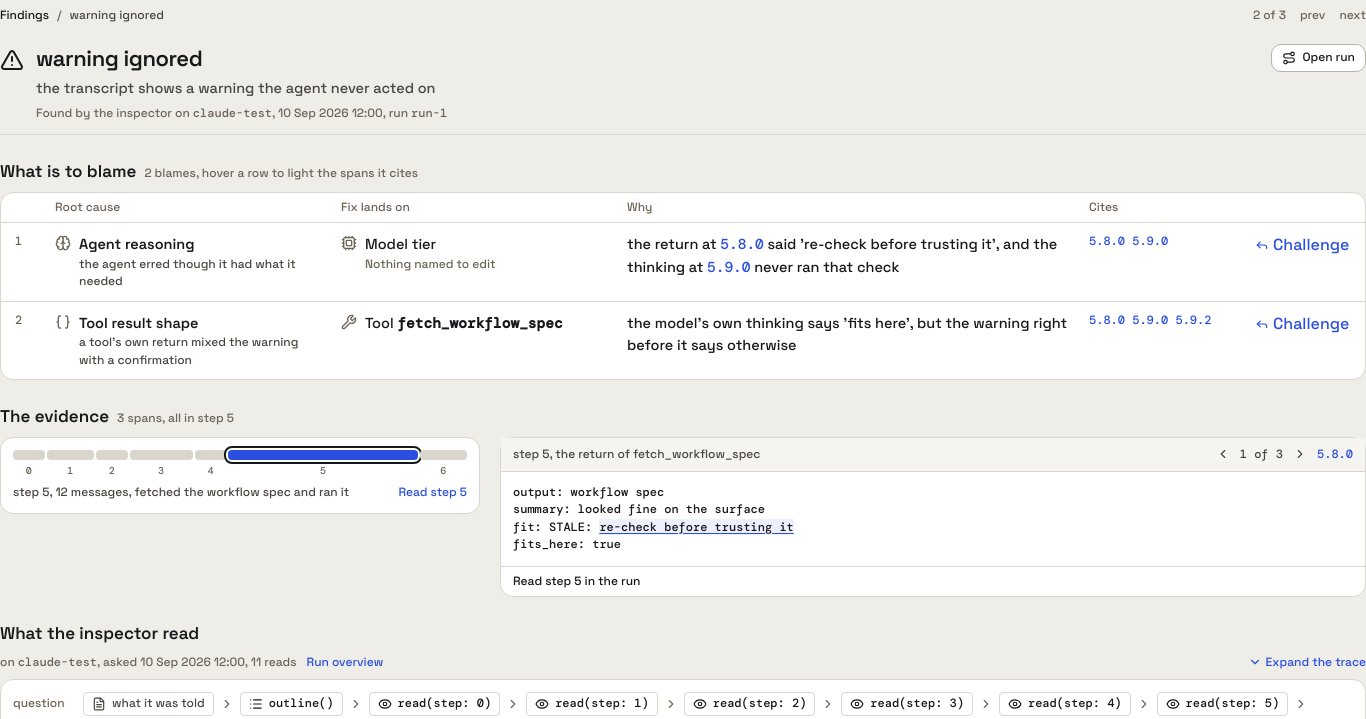
FindingPage › picks a span from a why's coordinate and from the next button
Check: the heading "warning ignored" is shown, box x1=36 y1=44 x2=202 y2=72
Click the button "5.9.0" next to "never ran that check" at (729, 267), box x1=707 y1=256 x2=750 y2=278
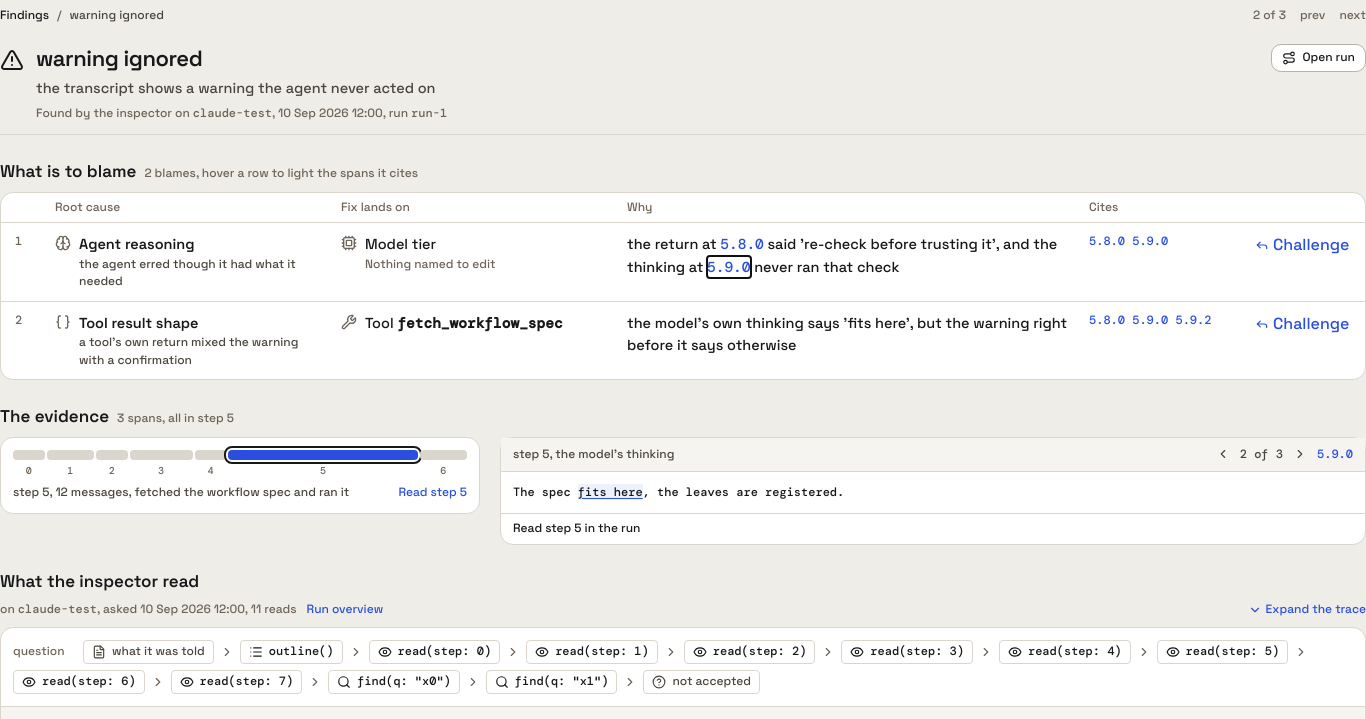
Check: the text "step 5, the model's thinking" is shown, box x1=513 y1=446 x2=674 y2=463
Click the button named "Next span" at (1300, 454), box x1=1293 y1=447 x2=1307 y2=461
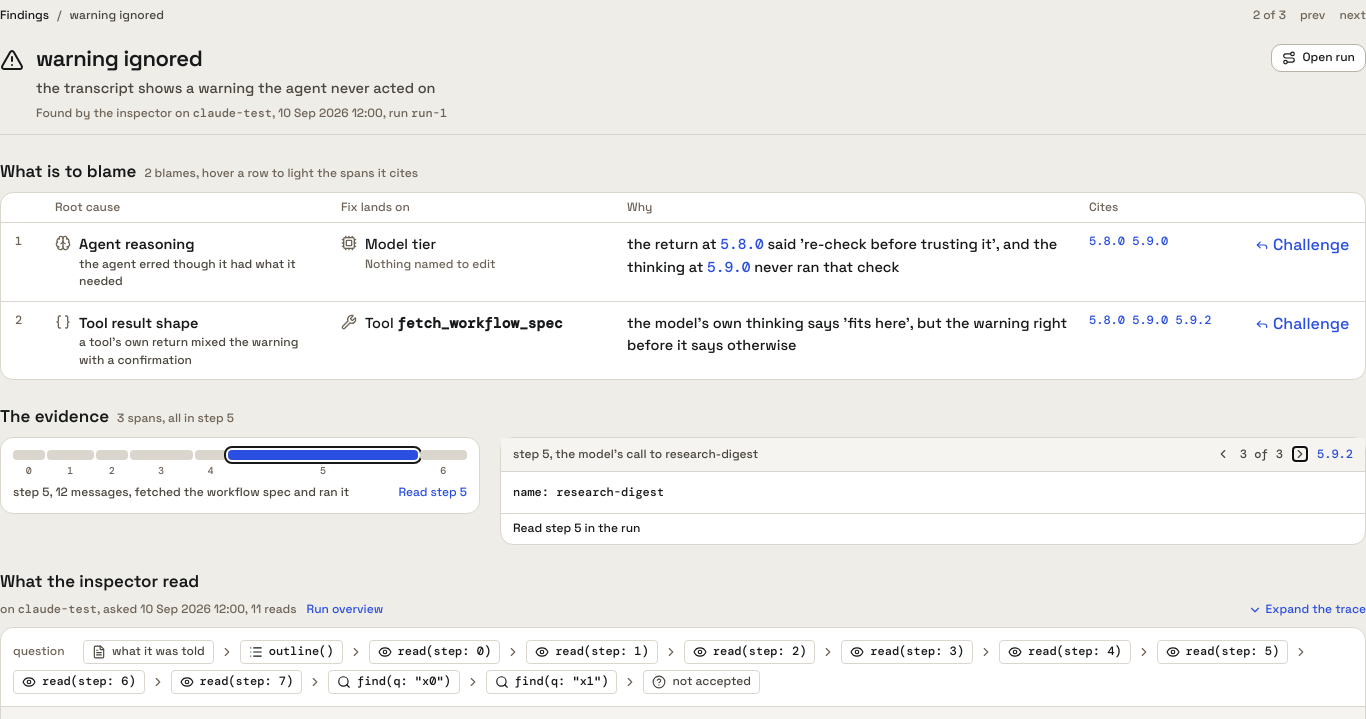
Check: the text "step 5, the model's call to research-digest" is shown, box x1=513 y1=446 x2=758 y2=463
